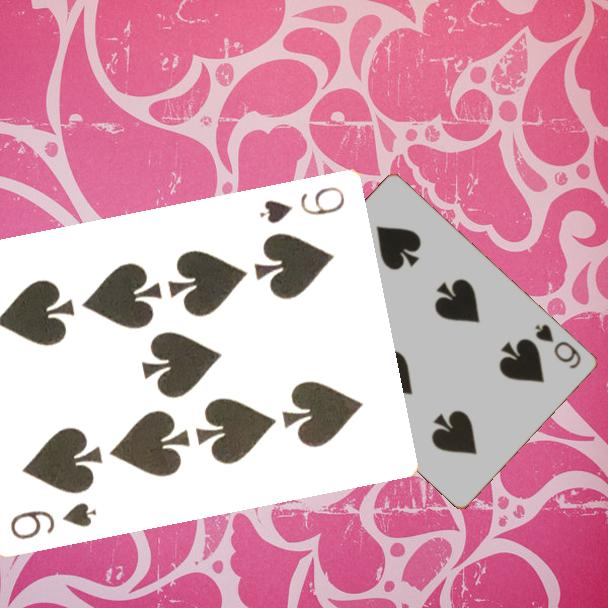s06: (531, 320, 585, 372)
s09: (7, 498, 100, 542), (256, 182, 348, 226)
